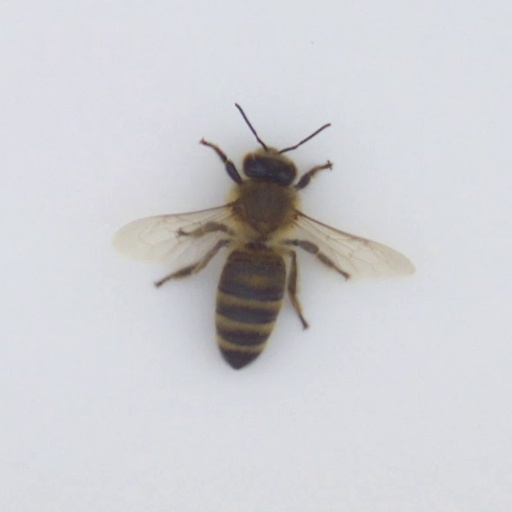Bee: (206, 137, 308, 384)
Thorax: (232, 178, 295, 237)
